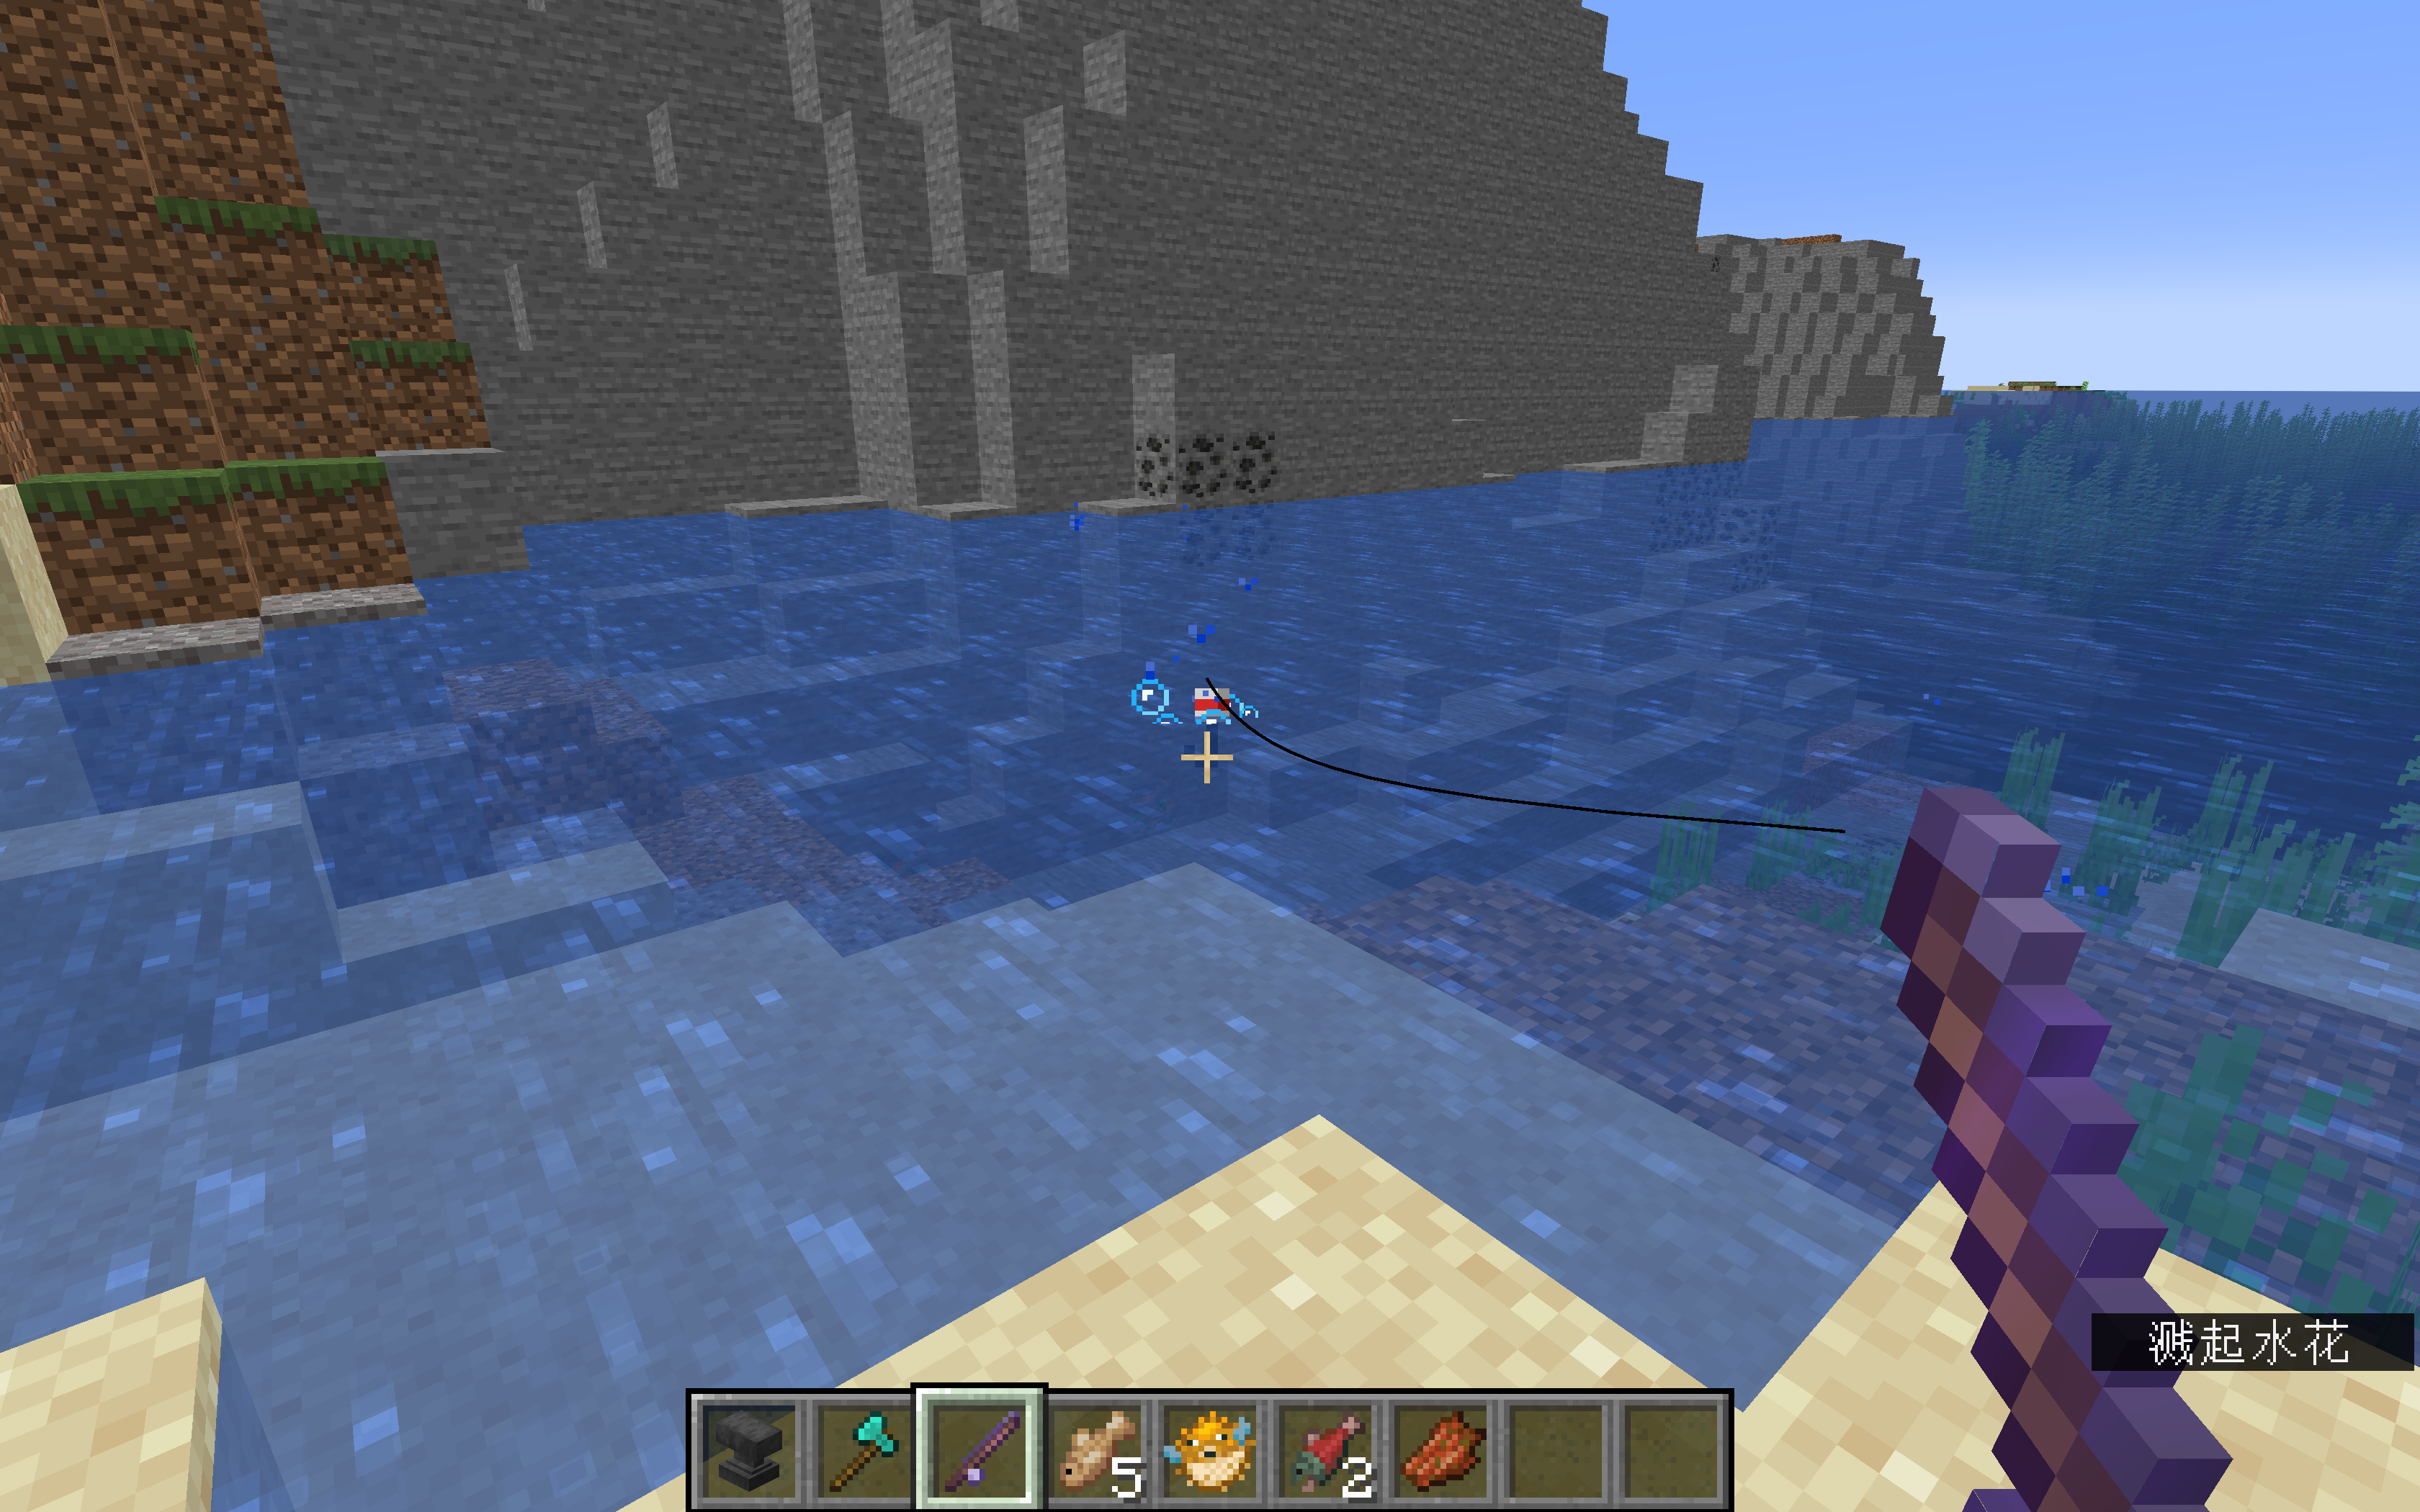inf: (2092, 1313, 2413, 1371)
